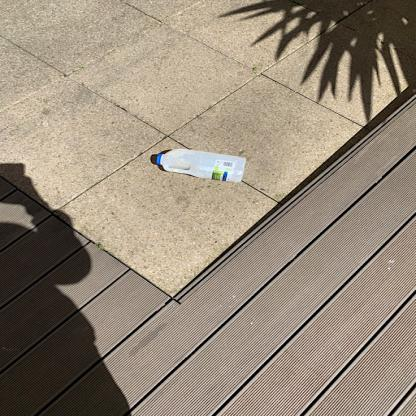trash: (152, 146, 250, 190)
